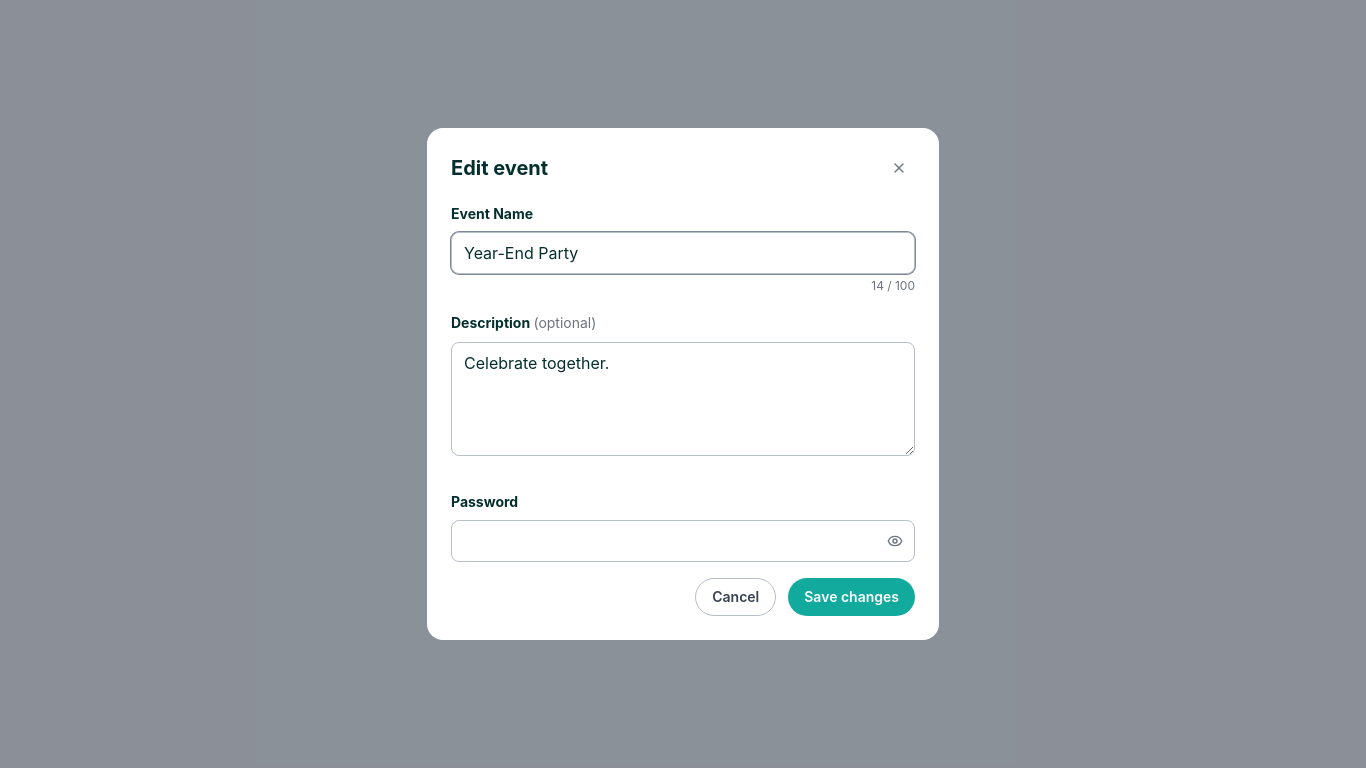
EventEditForm › requires the password for a protected event
Click the button "Save changes" at (852, 597), box [788,578,915,616]
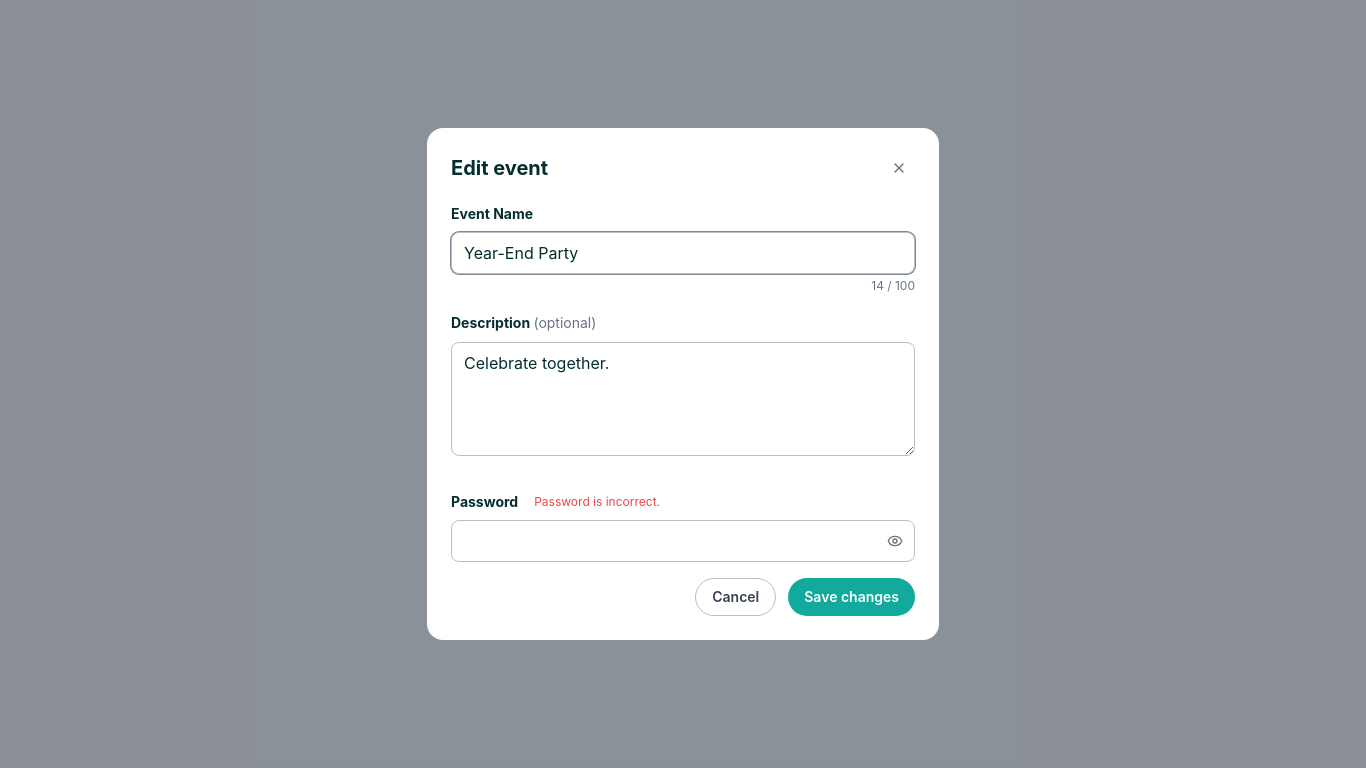
Result: the text "Password is incorrect." is shown at [534,494,660,510]
